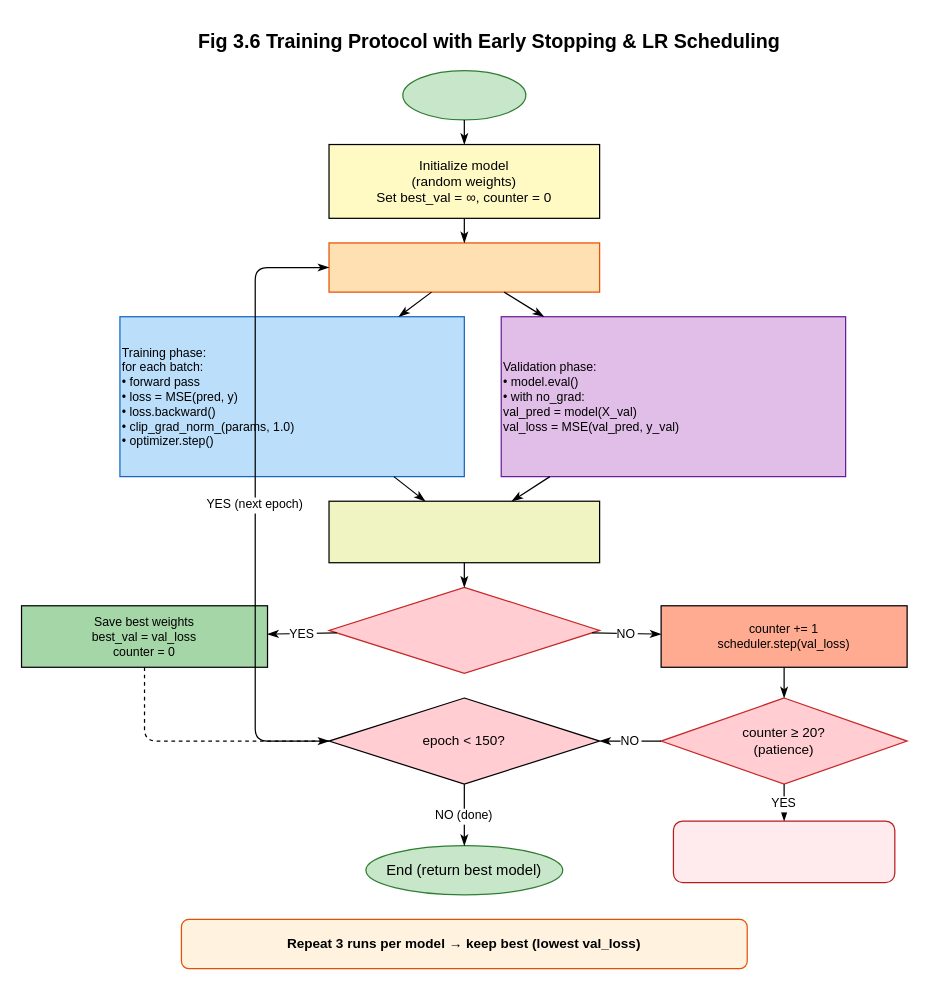
Image size: 941x990. Some labels were removed from this diagram. The centre of each missing label's shape, as x and y in pixels:
"EARLY STOP Load best weights" belongs at point 783,851.
"For epoch = 1 to 150" belongs at point 464,267.
"Record train_loss and val_loss (saved later to loss_history.json)" belongs at point 464,531.
"Start" belongs at point 464,94.
"val_loss < best_val ?" belongs at point 464,629.
